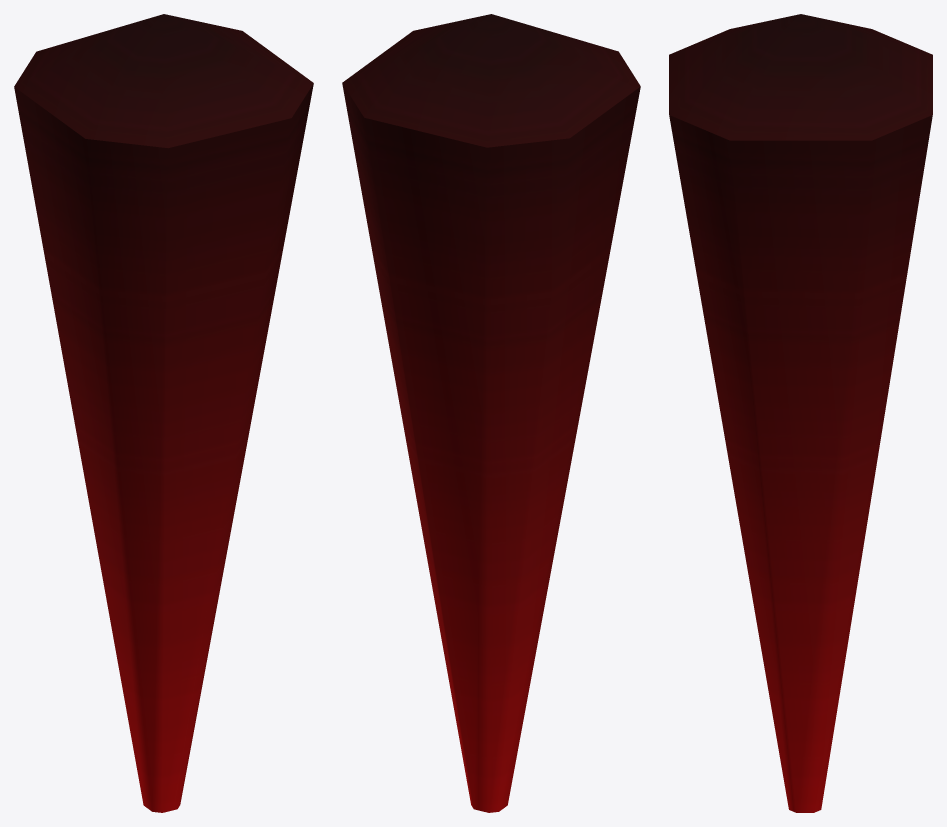
File: 8b79bd69-822c-4a26-a617-3efab5763918.glb
3 views of the same model, side by side, from view 1: azimuth 30°, elevation 25°; view 2: azimuth 150°, elevation 25°; view 3: azimuth 270°, elevation 25° (orthographic).
Parts seen in each view (by area): view 1: IndicatorBeamRed; view 2: IndicatorBeamRed; view 3: IndicatorBeamRed.
Boxes of the visible parts, box(x1,y1,x2,y2) form: IndicatorBeamRed: box(14, 14, 313, 812); IndicatorBeamRed: box(342, 14, 640, 812); IndicatorBeamRed: box(669, 14, 932, 812).
Bounding box in the file's own units: 4.64 × 15.36 × 4.64.
1 material, 1 textured.
